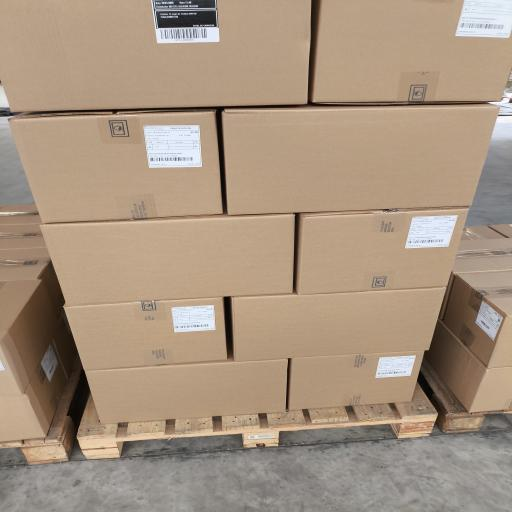pallet: (78, 385, 437, 459), (0, 357, 82, 465), (421, 360, 511, 433)
